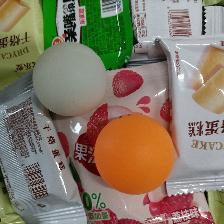WhiteBall: (32, 42, 105, 116)
YellowBall: (93, 112, 176, 195)
